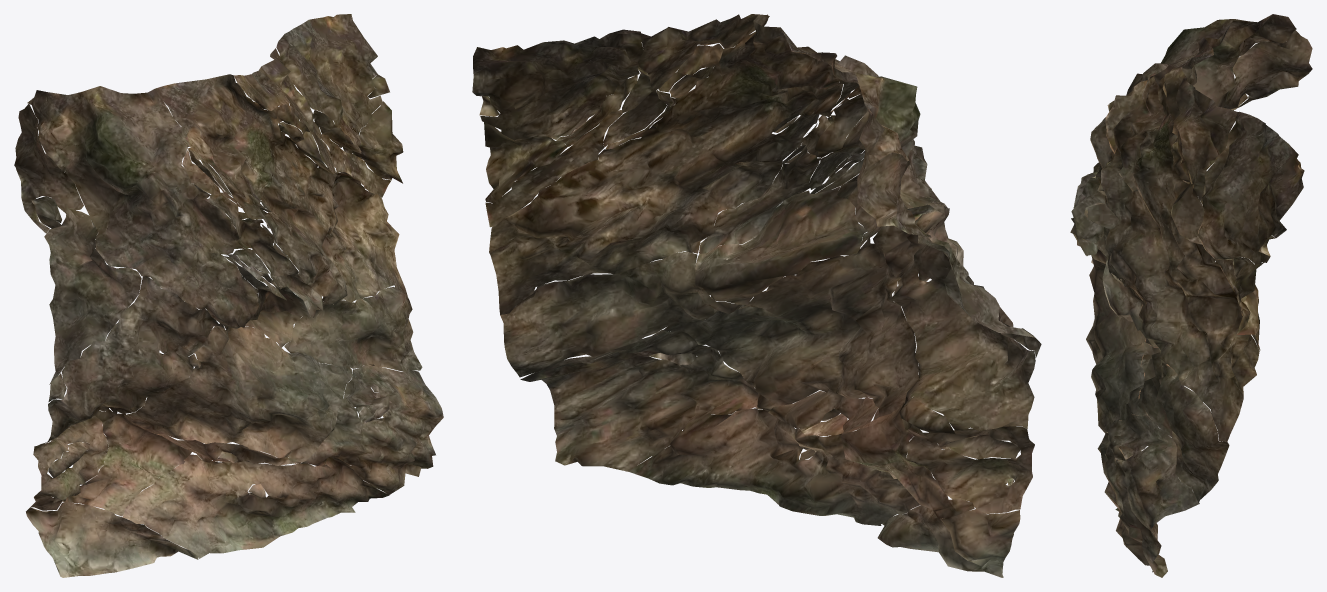
Rendered from mountainside.glb.
The picture shows the model from 3 angles, left to right: view 1: azimuth 30°, elevation 25°; view 2: azimuth 150°, elevation 25°; view 3: azimuth 270°, elevation 25°; orthographic projection. The views are drawn at different scales.
Visible parts, largest first — view 1: mountainside; view 2: mountainside; view 3: mountainside.
Boxes of the visible parts, box(x1,y1,x2,y2) form: mountainside: box(14, 14, 443, 577); mountainside: box(472, 14, 1041, 577); mountainside: box(1070, 14, 1312, 577).
Bounding box in the file's own units: 10.2 × 10.52 × 5.28.
Materials: 1 (1 with a texture image).
